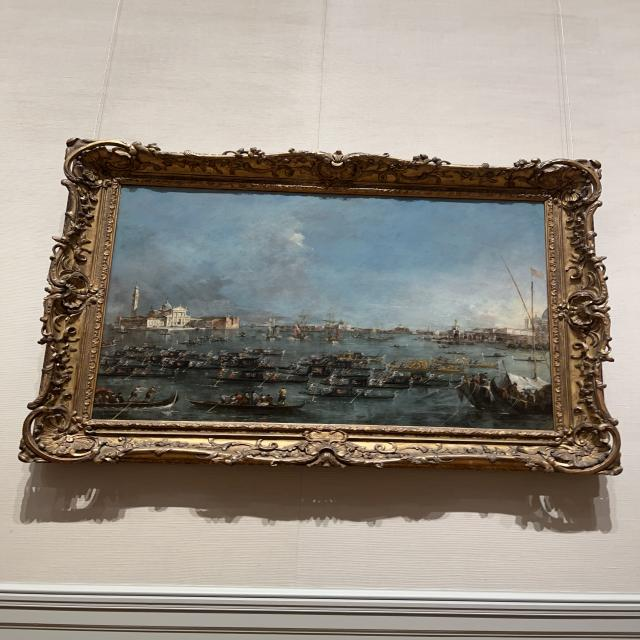ships: (95, 191, 550, 425)
